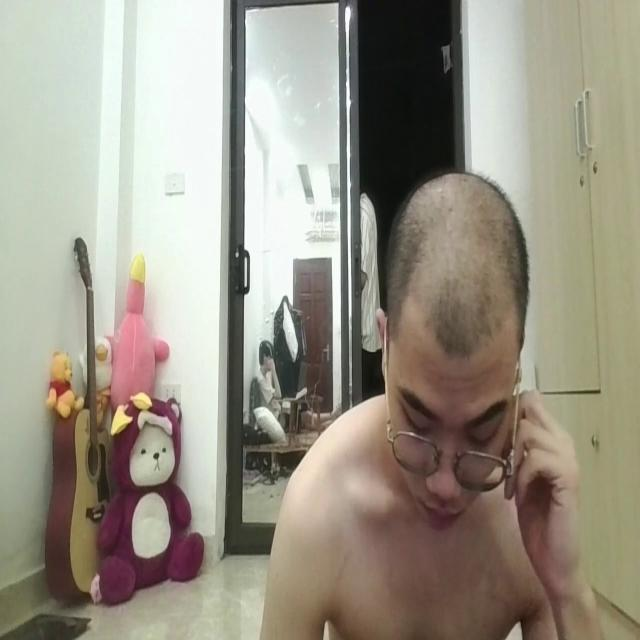extra_person: (249, 326, 301, 450), (359, 152, 381, 387)
student: (261, 148, 612, 640)
